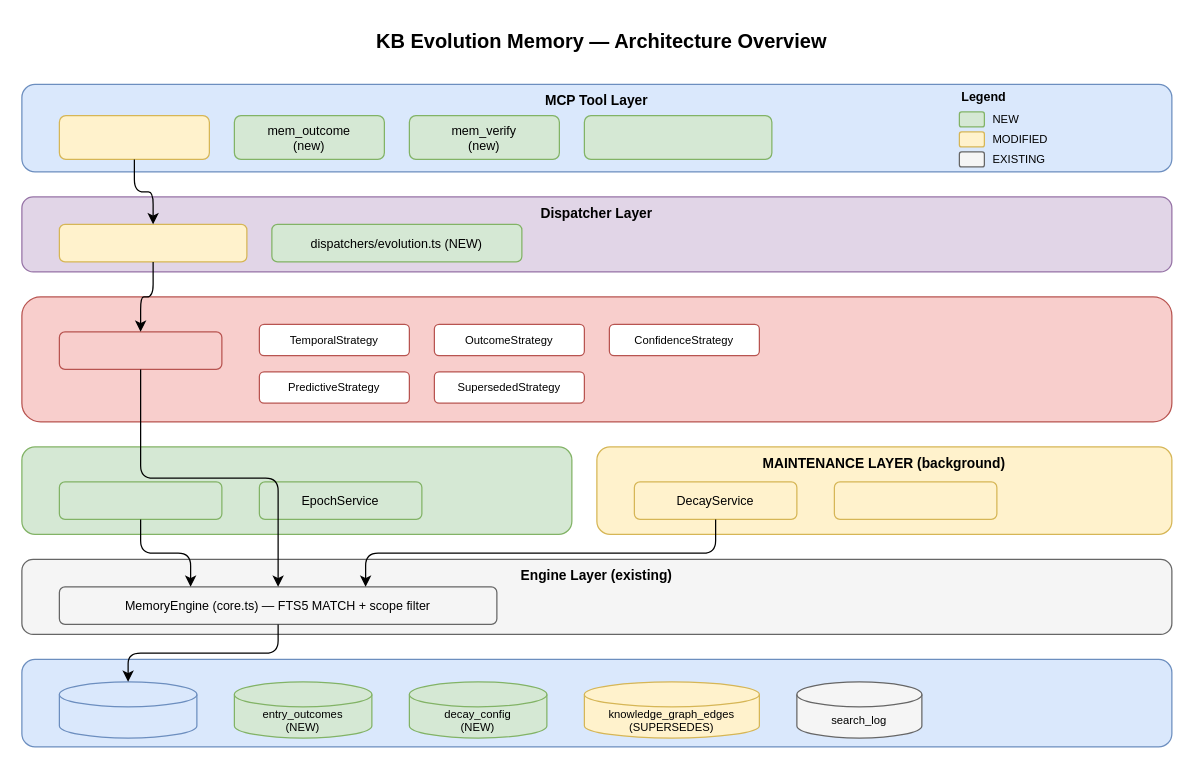
The diagram is 1194 pixels wide and 769 high, and some of its shapes have lost their labels. The box of each missing label's shape, as (x1, y1, x2, y2) in pixels:
CompositeScorer: (58, 331, 222, 369)
Database Layer (better-sqlite3): (21, 658, 1172, 747)
dispatchers/search.ts: (58, 223, 247, 262)
FEEDBACK LAYER (event-driven): (21, 446, 572, 534)
knowledge_entries + FTS5: (58, 681, 197, 738)
mem_configure_decay (new admin): (583, 114, 772, 159)
mem_search (enhanced): (58, 114, 209, 159)
OutcomeService: (58, 481, 222, 519)
SCORING LAYER (query-time): (21, 296, 1172, 422)
StagnationDetector: (833, 481, 997, 519)
